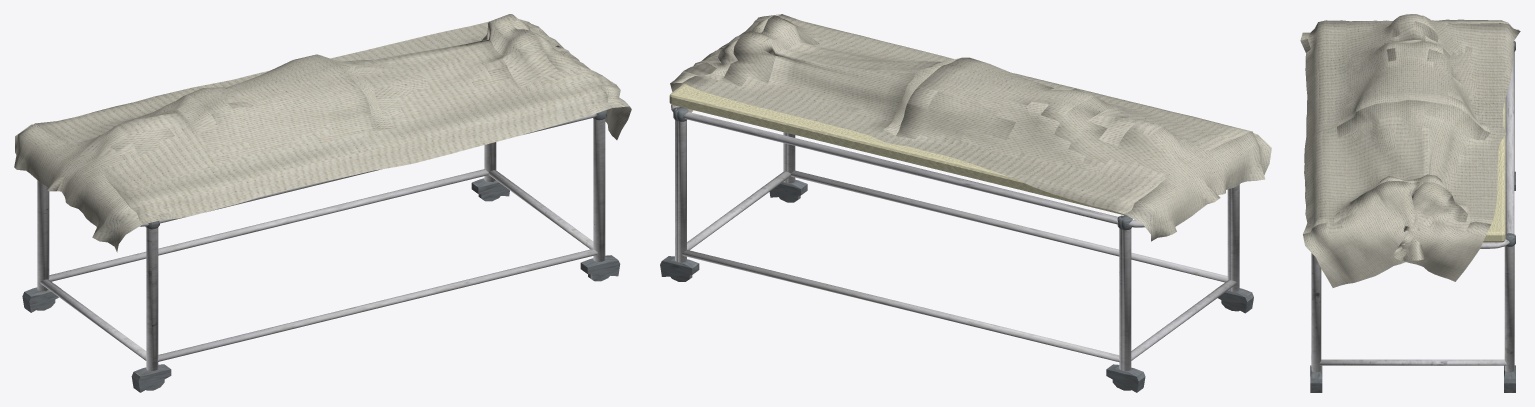
Rendered from camilla.glb.
3 renders of one model, left to right at view 1: azimuth 30°, elevation 25°; view 2: azimuth 150°, elevation 25°; view 3: azimuth 270°, elevation 25°, orthographic. The views are drawn at different scales.
Visible parts, largest first — view 1: Maca_MetalEscuro_0; view 2: Maca_MetalEscuro_0; view 3: Maca_MetalEscuro_0.
Part boxes in pixels (left/top/right/bottom): Maca_MetalEscuro_0: left=14, top=14, right=631, bottom=392; Maca_MetalEscuro_0: left=660, top=14, right=1271, bottom=392; Maca_MetalEscuro_0: left=1300, top=14, right=1520, bottom=392.
Size of the model in its own units: 2.1 by 0.85 by 0.85.
4 materials, 4 textured.
